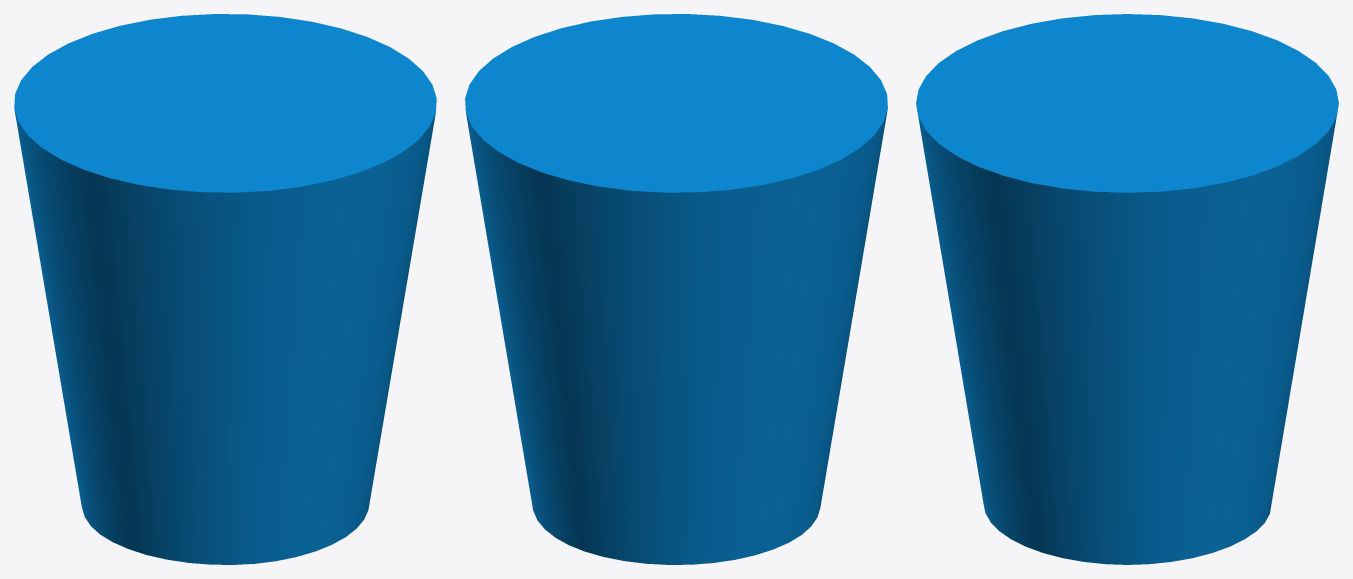
The model's file is Water.fbx.
3 views of the same model, side by side, from view 1: azimuth 30°, elevation 25°; view 2: azimuth 150°, elevation 25°; view 3: azimuth 270°, elevation 25° (orthographic).
Visible parts, largest first — view 1: water; view 2: water; view 3: water.
Boxes of the visible parts, bbox=[...] form: water: bbox=[14, 14, 436, 564]; water: bbox=[465, 14, 887, 564]; water: bbox=[916, 14, 1338, 564].
Size of the model in its own units: 1.72 by 1.8 by 1.72.
